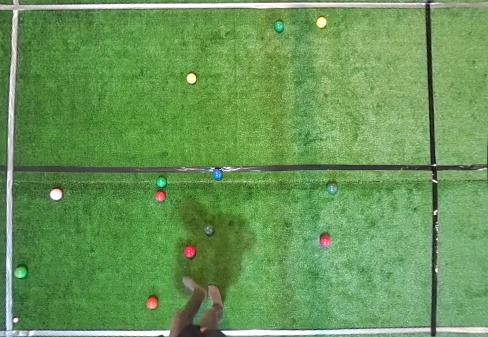blue: (212, 170, 222, 181)
green: (14, 266, 27, 279), (326, 182, 338, 195), (156, 177, 167, 188), (204, 225, 214, 236), (274, 21, 284, 32)
red: (146, 296, 159, 310), (183, 246, 196, 259), (49, 188, 63, 200), (320, 234, 331, 247), (155, 191, 165, 202)
vline: (424, 0, 487, 336), (0, 0, 21, 336)
white: (12, 317, 19, 323)
yellow: (316, 17, 328, 28), (186, 73, 197, 84)
